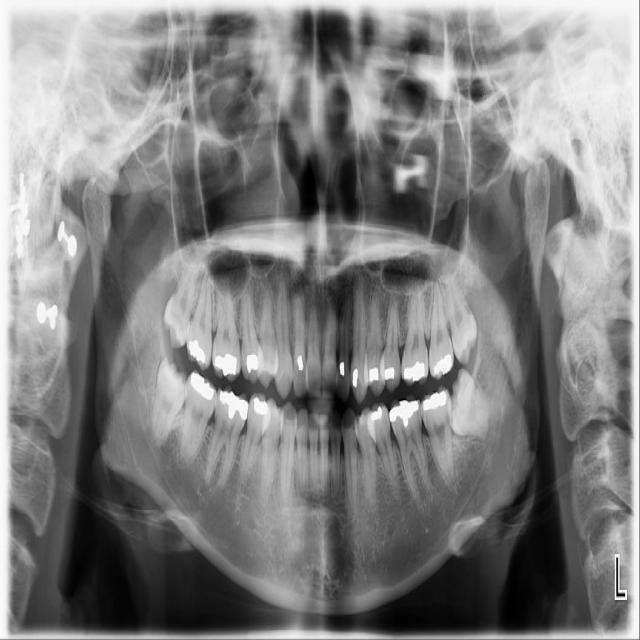Filling: (218, 389, 248, 421), (389, 400, 419, 427), (190, 369, 215, 401), (419, 392, 448, 412), (215, 353, 238, 376), (403, 360, 424, 383), (188, 338, 206, 364), (432, 354, 454, 375), (245, 352, 262, 375), (254, 396, 268, 423), (334, 356, 349, 381), (366, 365, 382, 388), (351, 368, 364, 395), (294, 352, 305, 377), (372, 407, 383, 428), (383, 366, 396, 382)
Periapical lesion: (412, 480, 425, 512), (430, 484, 444, 509), (164, 434, 176, 453)
impacted tooth: (148, 358, 186, 447), (453, 369, 494, 440)
